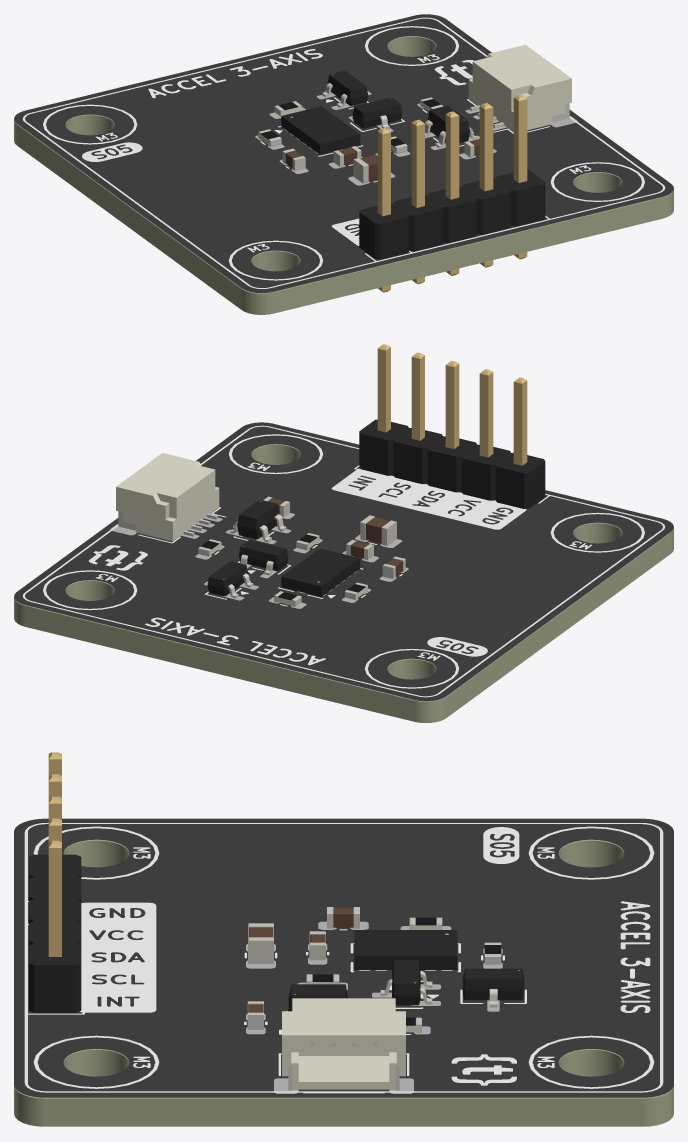
The picture shows the model from 3 angles, top to bottom: view 1: azimuth 30°, elevation 25°; view 2: azimuth 150°, elevation 25°; view 3: azimuth 270°, elevation 25°; orthographic projection. The views are drawn at different scales.
Visible parts, largest first — view 1: =>[0:1:1:13], =>[0:1:1:15], J1, =>[0:1:1:11], J3, U1, Q1, =>[0:1:1:10], Q2, U2, C4; view 2: =>[0:1:1:13], =>[0:1:1:15], J1, =>[0:1:1:11], J3, U1, =>[0:1:1:10], U2, Q1, Q2, C4; view 3: =>[0:1:1:13], =>[0:1:1:15], =>[0:1:1:11], J3, J1, U1, Q2, =>[0:1:1:10], Q1, C4, U2, C3.
Boxes of the visible parts, x1,y1,x2,y2 form: =>[0:1:1:13]: (14,14,673,292); =>[0:1:1:15]: (14,36,673,314); J1: (359,94,545,292); =>[0:1:1:11]: (22,17,665,288); J3: (468,44,571,131); U1: (281,106,360,154); Q1: (352,97,402,129); =>[0:1:1:10]: (255,91,577,185); Q2: (322,71,367,107); U2: (425,105,476,148); C4: (353,153,377,183); =>[0:1:1:13]: (14,422,673,701); =>[0:1:1:15]: (14,444,673,722); J1: (359,344,545,508); =>[0:1:1:11]: (23,425,664,697); J3: (116,453,219,541); U1: (281,548,360,596); =>[0:1:1:10]: (110,513,408,608); U2: (230,499,286,542); Q1: (239,540,288,575); Q2: (207,561,253,598); C4: (360,515,396,545); =>[0:1:1:13]: (14,818,673,1097); =>[0:1:1:15]: (14,839,673,1126); =>[0:1:1:11]: (24,823,663,1093); J3: (282,998,405,1090); J1: (29,752,81,1012); U1: (354,930,457,969); Q2: (462,968,524,1007); =>[0:1:1:10]: (246,921,502,1093); Q1: (380,960,432,1005); C4: (248,923,273,963); U2: (288,984,348,1011); C3: (327,907,359,928).
Bounding box in the file's own units: 0.032 × 0.0115 × 0.032.
